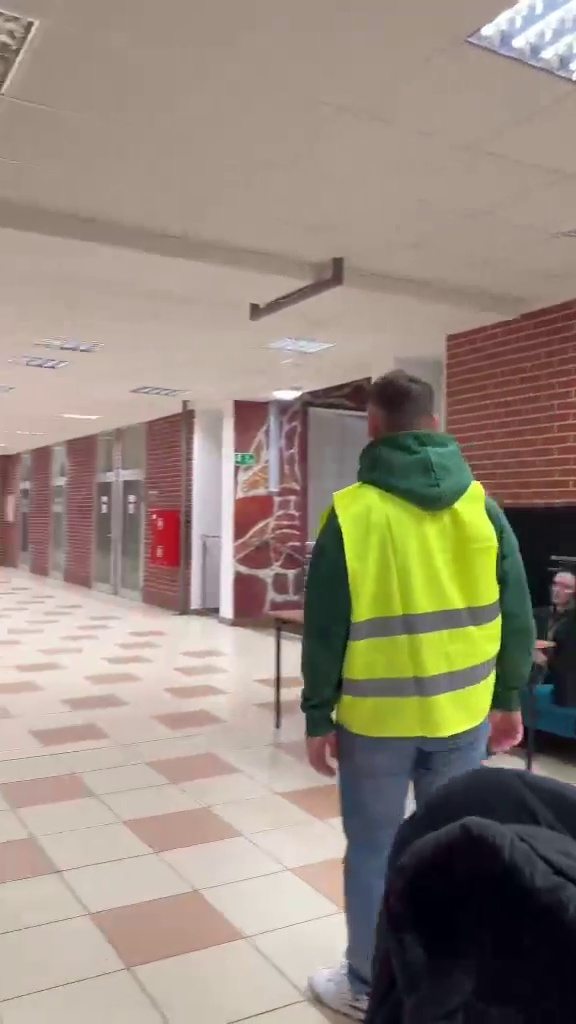vest: (304, 367, 532, 971)
